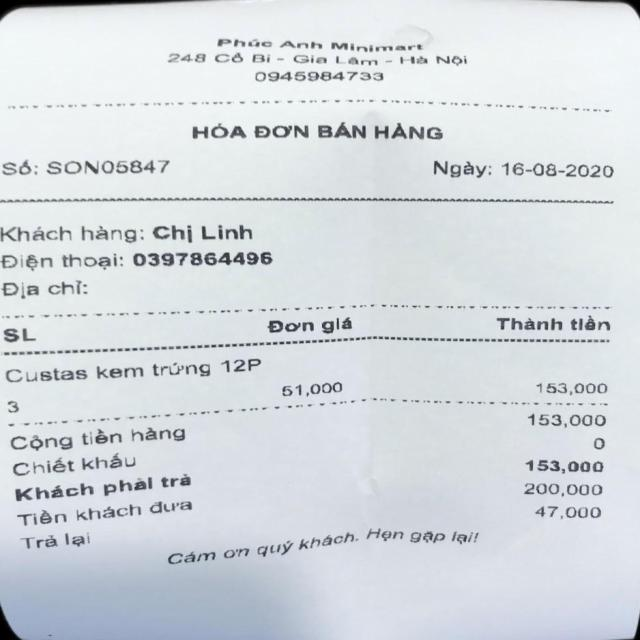Date: (496, 158, 613, 185)
Store_Name: (215, 32, 433, 54)
amount_number: (527, 410, 610, 430)
label_total: (10, 424, 193, 453)
